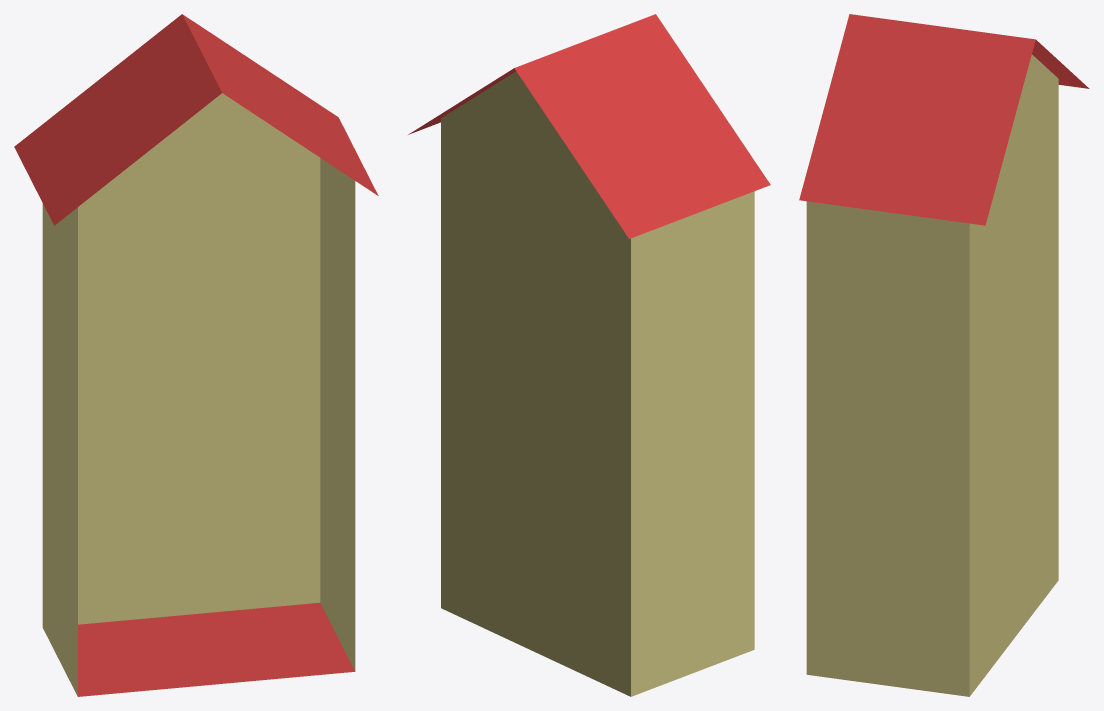
3 views of the same model, side by side, from view 1: azimuth 30°, elevation 25°; view 2: azimuth 150°, elevation 25°; view 3: azimuth 270°, elevation 25° (orthographic). The views are drawn at different scales.
Size of the model in its own units: 7.76 by 5.88 by 13.5.
